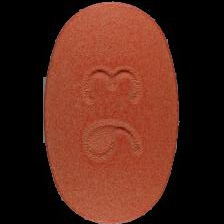68151-0738: (0, 0, 224, 224)
